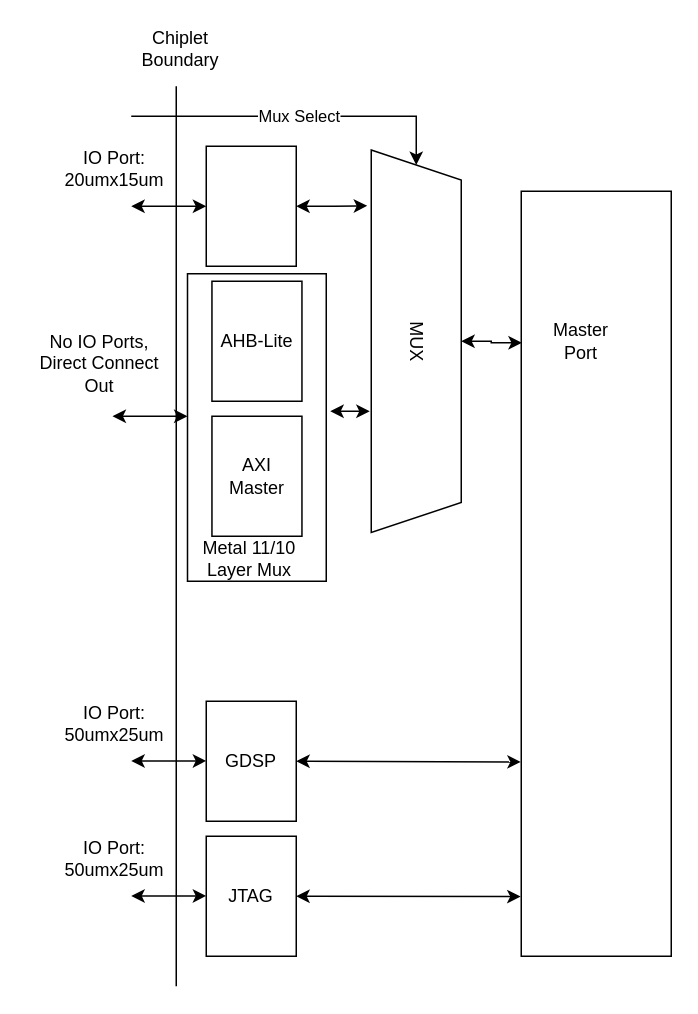
Image size: 698x1014. Some labels were removed from this diagram. Here are the shapes that lost their labels. From the top down, the centre of each, then its label:
(250,205): AIB-like Chiplet Interface
(595,573): AXI
